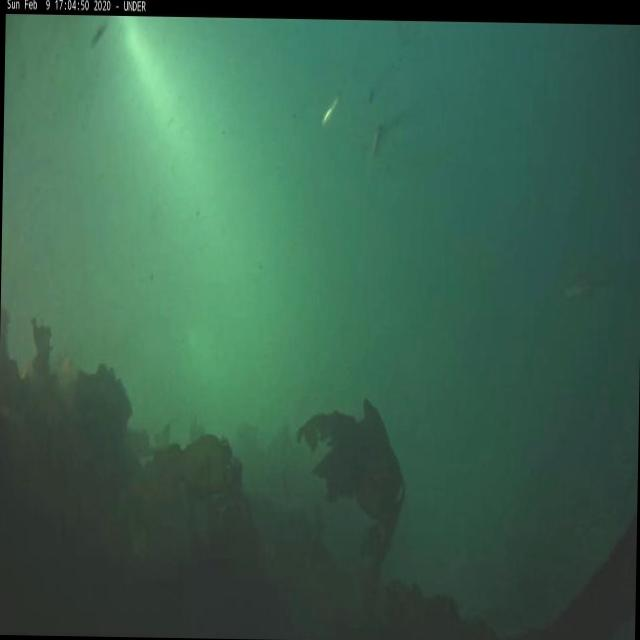fish: (318, 89, 342, 134), (370, 124, 386, 168)
